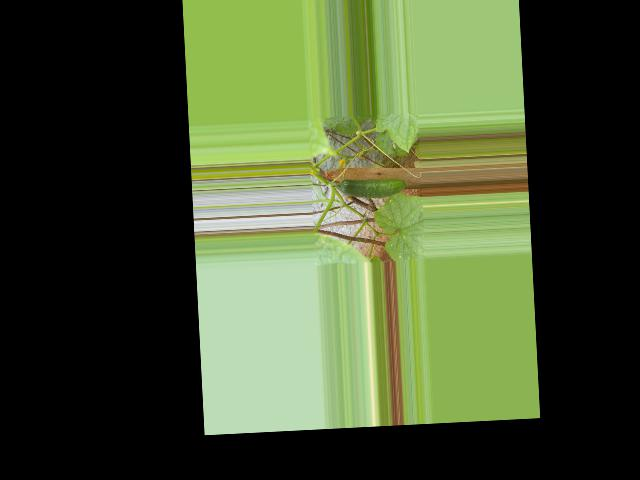cucumber: (339, 175, 406, 199)
